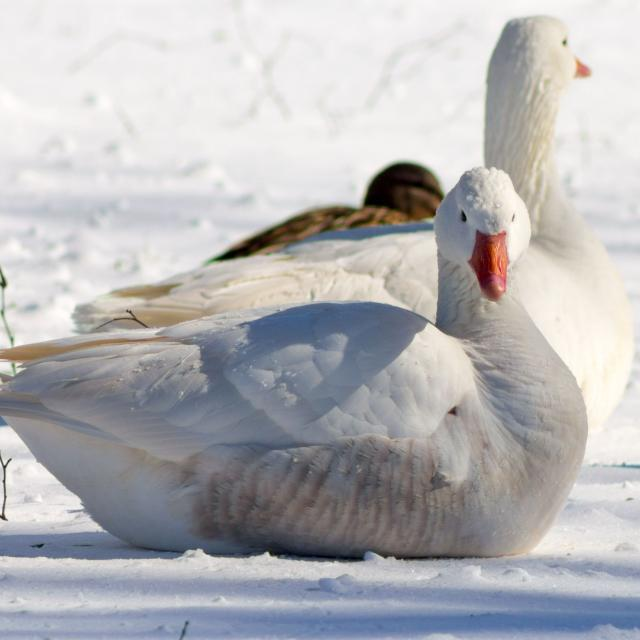Goose: (7, 167, 590, 554)
